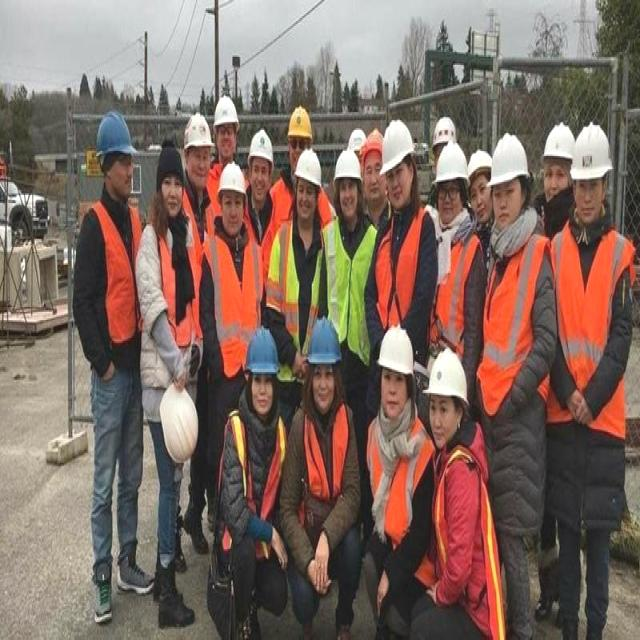face_nomask: (101, 156, 139, 201), (427, 390, 458, 443), (468, 169, 494, 226), (574, 175, 604, 222), (382, 369, 409, 419), (494, 175, 520, 226), (386, 162, 414, 208), (160, 175, 185, 218), (221, 193, 244, 239), (314, 364, 336, 412), (440, 177, 462, 224), (364, 156, 385, 205), (190, 144, 210, 188), (253, 375, 276, 413), (546, 166, 566, 206), (338, 180, 359, 218), (252, 160, 270, 204), (298, 177, 314, 223), (218, 122, 237, 159)
glasses: (436, 178, 459, 204)
hand_noglove: (314, 529, 334, 593), (569, 380, 590, 432), (270, 522, 288, 576), (374, 568, 390, 620)
head_helmet: (157, 382, 199, 464), (426, 351, 469, 409), (93, 112, 138, 161), (572, 125, 611, 179), (305, 318, 344, 371), (244, 328, 282, 374), (384, 118, 413, 176), (378, 326, 413, 374), (490, 136, 528, 180), (436, 141, 469, 187), (544, 120, 581, 158), (294, 149, 324, 187), (181, 115, 213, 148), (218, 161, 248, 196), (247, 132, 277, 164), (466, 144, 496, 174), (334, 153, 362, 185), (288, 109, 314, 138), (213, 96, 238, 125), (433, 115, 459, 138), (346, 130, 365, 153), (368, 127, 384, 154)
head_nohelmet: (159, 135, 182, 183)
person: (556, 128, 620, 609), (82, 106, 144, 596), (135, 147, 197, 610), (418, 341, 502, 627), (488, 140, 538, 610), (354, 336, 430, 616), (292, 327, 358, 616), (218, 346, 286, 624), (434, 140, 488, 359), (381, 125, 438, 331), (328, 156, 382, 357), (276, 158, 334, 323), (208, 171, 262, 323), (182, 110, 218, 278), (248, 130, 274, 258), (538, 110, 572, 206), (210, 84, 244, 166), (470, 136, 494, 229), (364, 126, 390, 210)
shoes: (157, 573, 198, 631), (116, 541, 154, 598), (88, 552, 114, 624), (184, 490, 210, 558)
vest: (554, 229, 633, 416), (432, 453, 504, 621), (482, 237, 544, 403), (366, 418, 436, 556), (300, 411, 362, 555), (233, 411, 290, 567), (97, 202, 149, 350), (327, 221, 379, 359), (275, 224, 329, 351), (162, 210, 212, 346), (378, 214, 428, 333), (210, 237, 262, 349), (430, 229, 475, 354)
